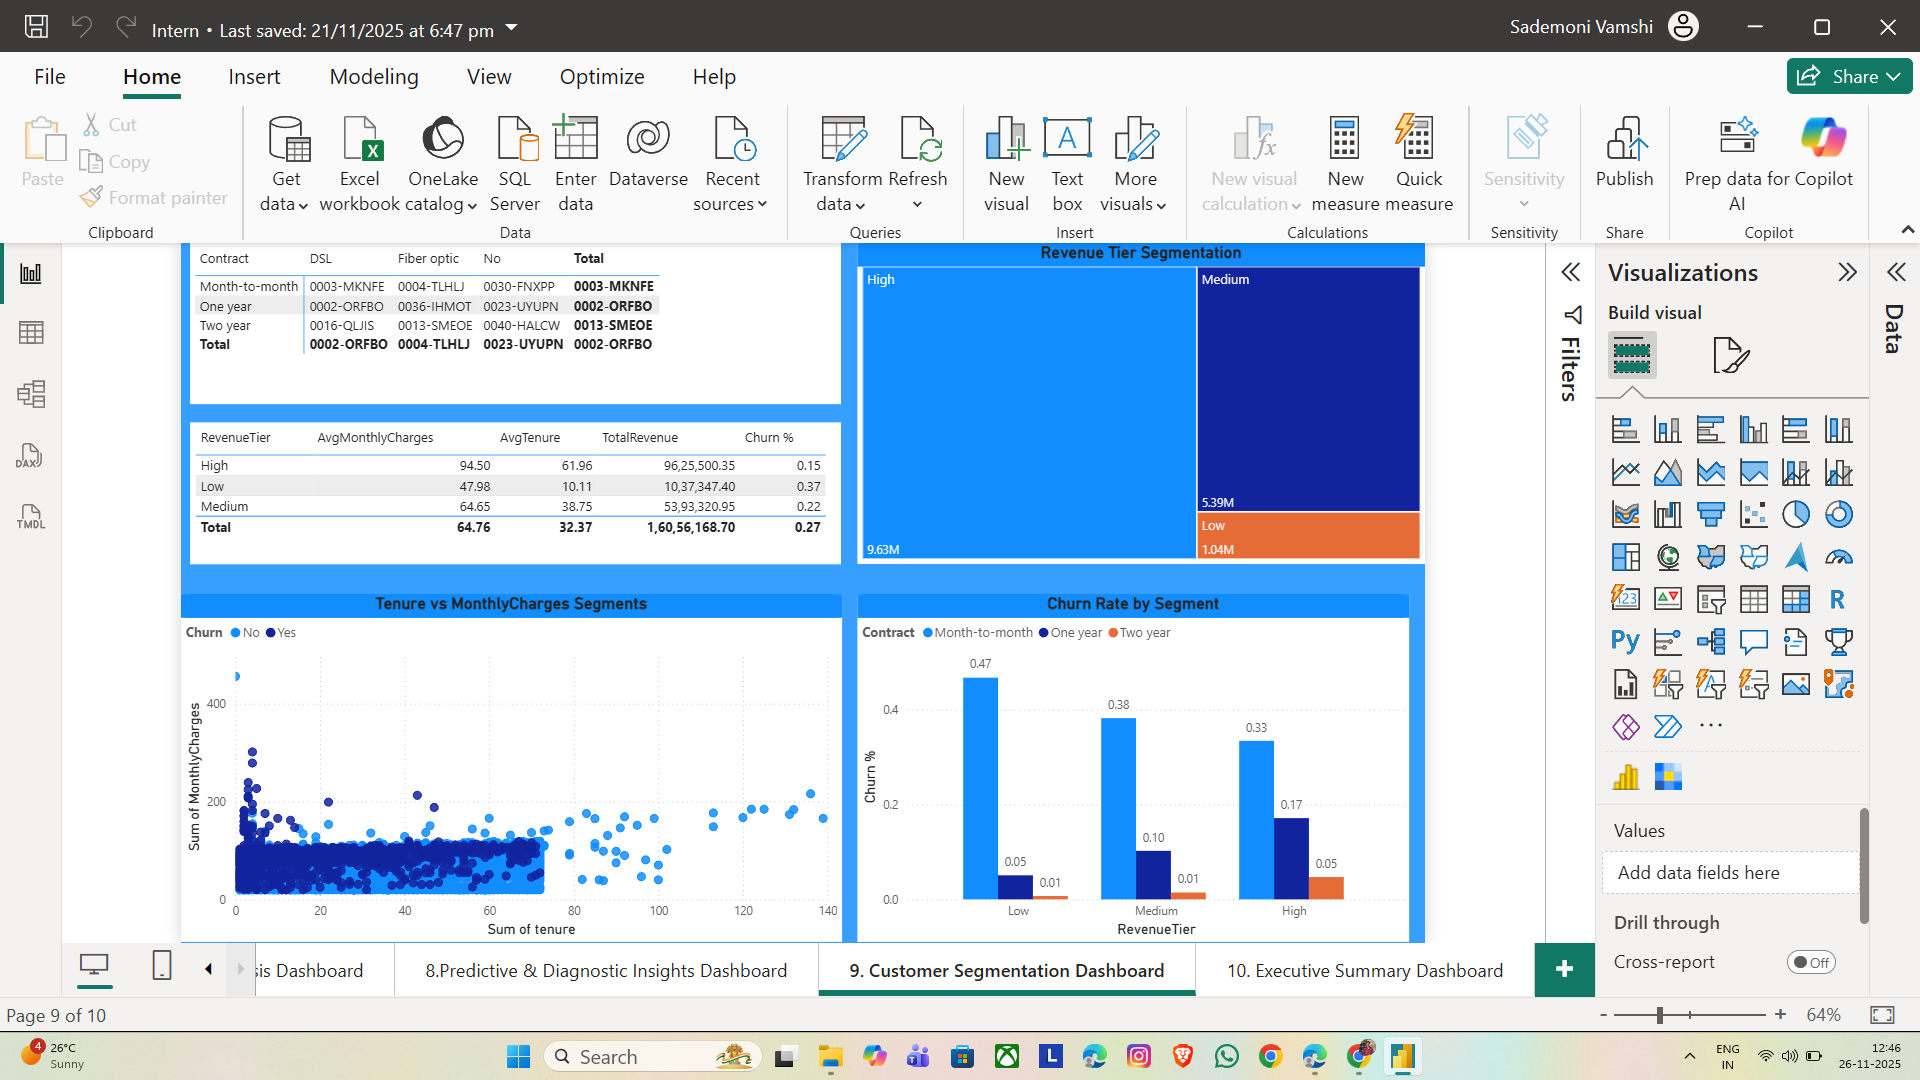

The page's visual inventory and layout, read from the dashboard file:
{"tool":"powerbi","page":{"name":"9. Customer Segmentation Dashboard","canvas":[1280,720],"ordinal":8},"visuals":[{"type":"pivotTable","fields":{"Rows":["Telco_Customer_Churn.Contract"],"Columns":["Telco_Customer_Churn.InternetService"],"Values":["Min(Telco_Customer_Churn.customerID)"]},"box":[10,0,670,166],"z":0},{"type":"scatterChart","title":"Tenure vs MonthlyCharges Segments","fields":{"X":["Sum(Telco_Customer_Churn.tenure)"],"Y":["Sum(Telco_Customer_Churn.MonthlyCharges)"],"Series":["Telco_Customer_Churn.Churn"],"Category":["Telco_Customer_Churn.TotalCharges"]},"box":[0,362,680,358],"z":1000},{"type":"treemap","title":"Revenue Tier Segmentation","fields":{"Values":["Sum(Telco_Customer_Churn.TotalCharges)"],"Group":["Telco_Customer_Churn.RevenueTier"]},"box":[696,0,584,330],"z":2000},{"type":"clusteredColumnChart","title":"Churn Rate by Segment","fields":{"Category":["Telco_Customer_Churn.RevenueTier"],"Y":["Telco_Customer_Churn.Churn %"],"Series":["Telco_Customer_Churn.Contract"]},"box":[696,362,568,358],"z":3000},{"type":"tableEx","fields":{"Values":["Telco_Customer_Churn.RevenueTier","Telco_Customer_Churn.AvgMonthlyCharges","Telco_Customer_Churn.AvgTenure","Telco_Customer_Churn.TotalRevenue","Telco_Customer_Churn.Churn %"]},"box":[10,184,670,146],"z":4000}]}

Visuals, with their boxes on the page's 1280x720 design canvas (x1, y1, x2, y2). These are canvas units, not pixel positions in the 1920x1080 screenshot, which may show the page scaled, cropped or inside an application window:
pivotTable - Telco_Customer_Churn.Contract x Telco_Customer_Churn.InternetService: rect(10, 0, 680, 166)
"Tenure vs MonthlyCharges Segments" scatterChart: rect(0, 362, 680, 720)
"Revenue Tier Segmentation" treemap: rect(696, 0, 1280, 330)
"Churn Rate by Segment" clusteredColumnChart: rect(696, 362, 1264, 720)
tableEx - Telco_Customer_Churn.RevenueTier x Telco_Customer_Churn.AvgMonthlyCharges: rect(10, 184, 680, 330)
